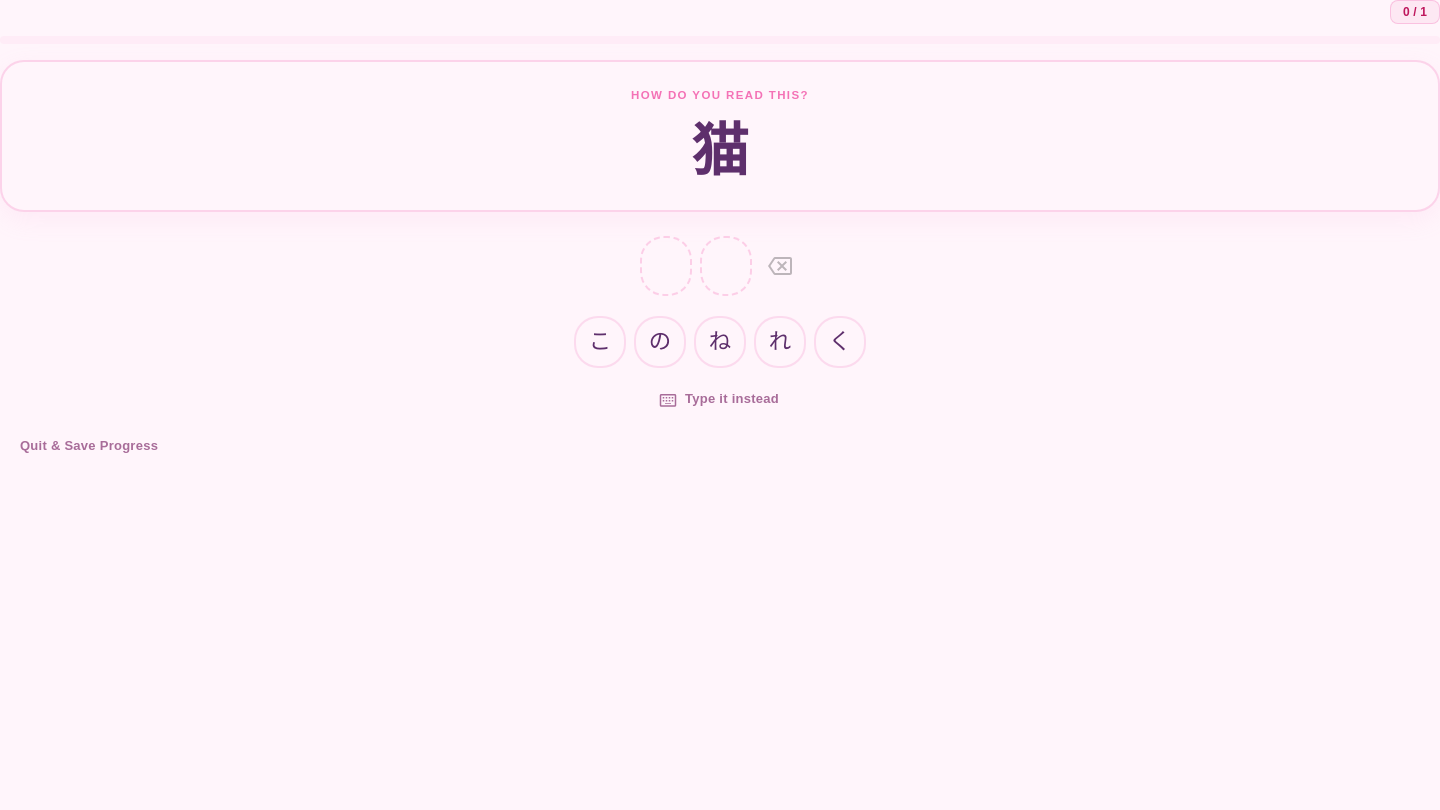
Test: ReadingMode › celebrates once the last card is answered
Expected: the text "猫" is shown, x1=691 y1=120 x2=749 y2=183
Click the button named "Add ね". click: (720, 342)
box: x1=694 y1=316 x2=746 y2=368
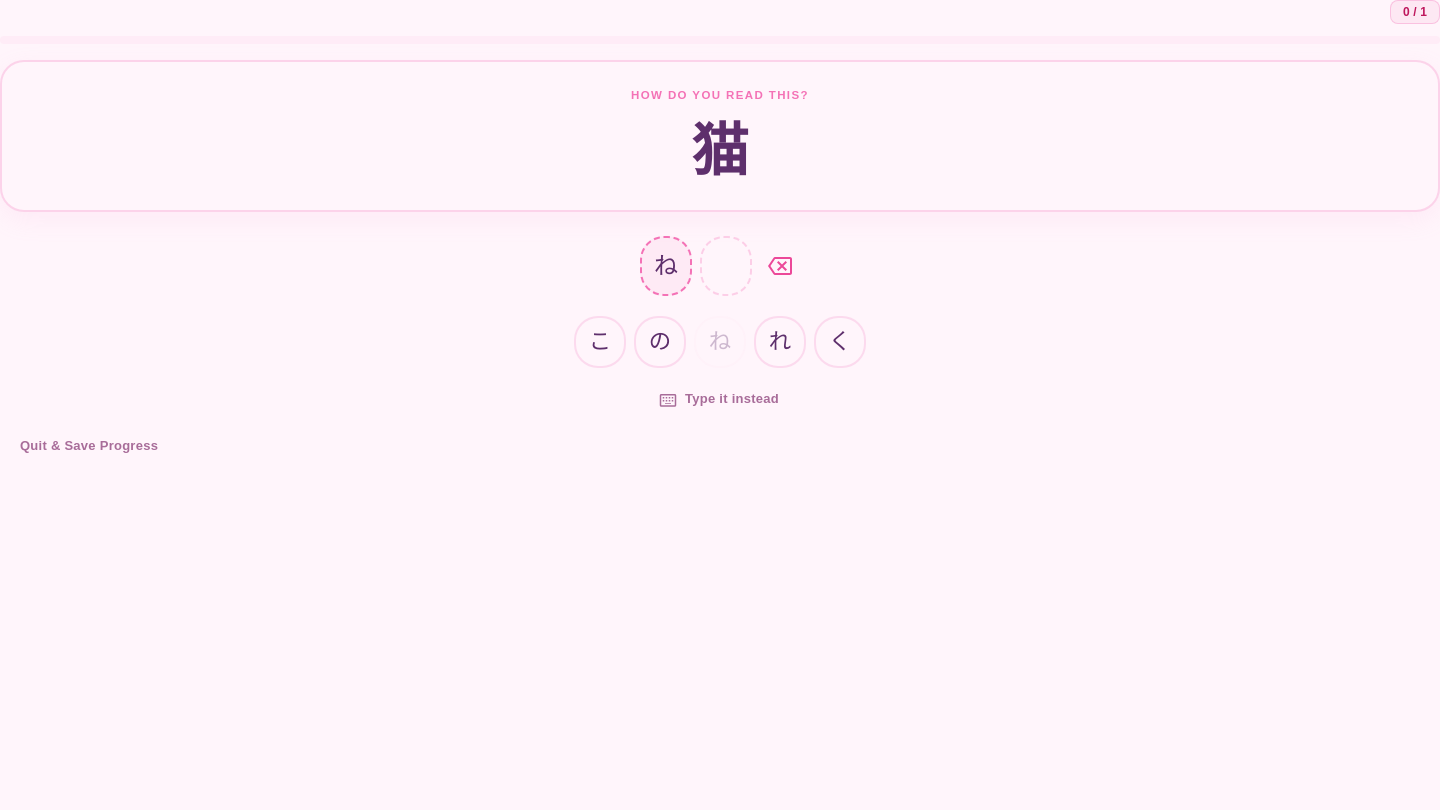
Click the button named "Add こ". click: (600, 342)
box: x1=574 y1=316 x2=626 y2=368
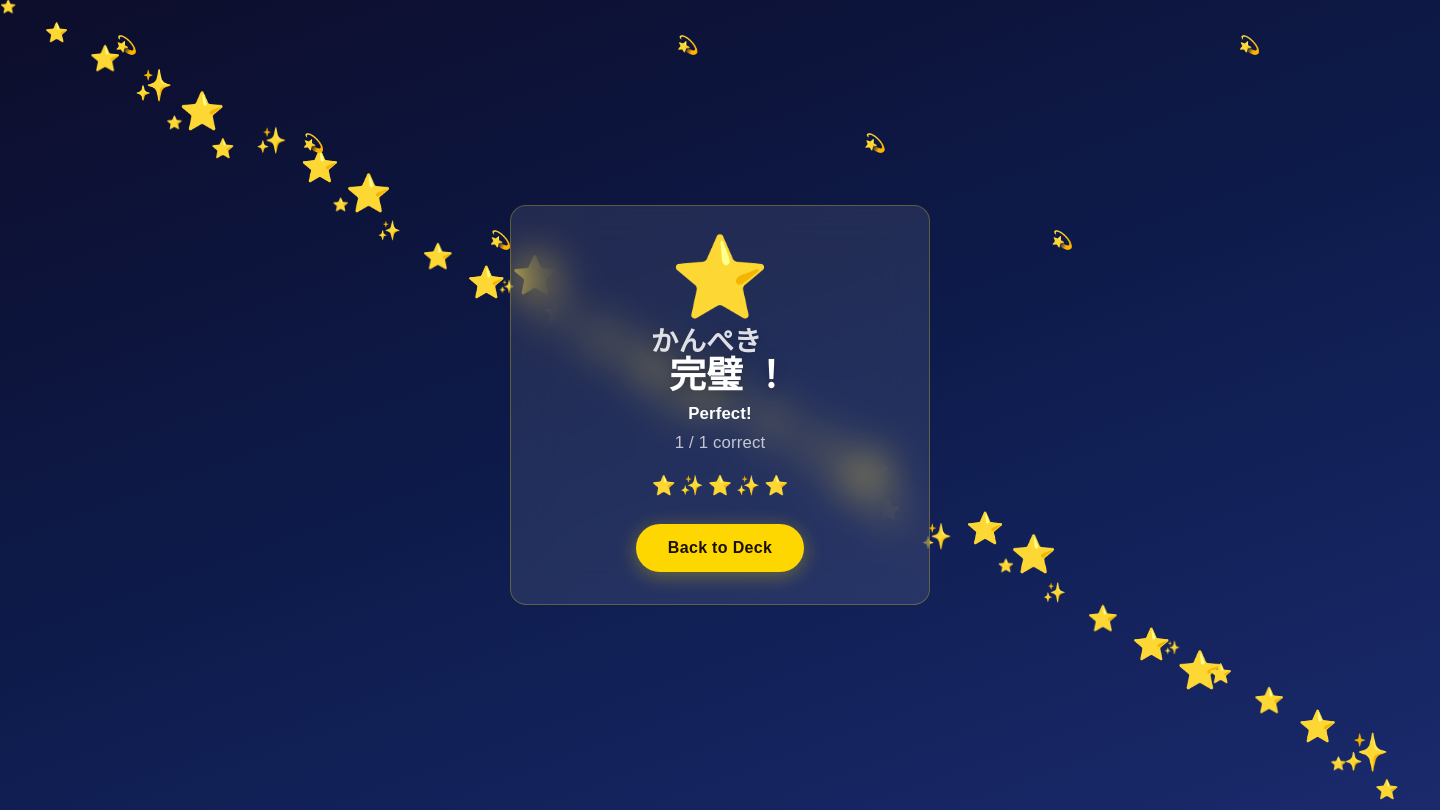
Now the text "1 / 1 correct" is shown, box x1=675 y1=434 x2=765 y2=452
